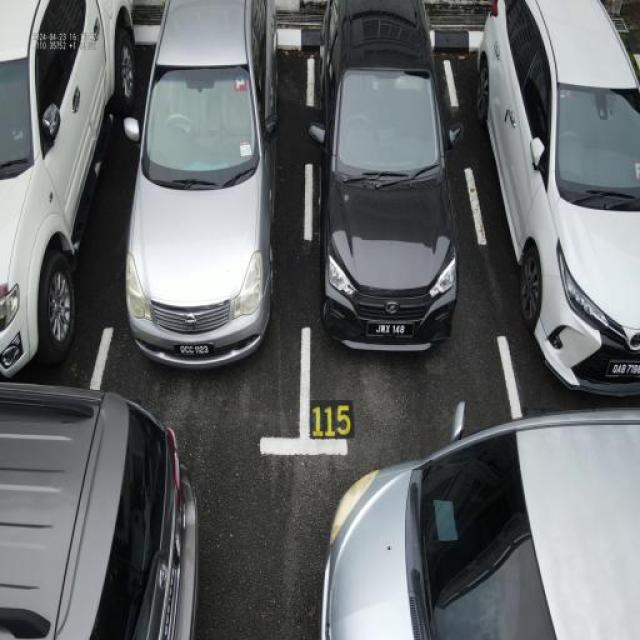Legalparking: (0, 0, 640, 425)
illegalparking: (1, 350, 640, 640)
